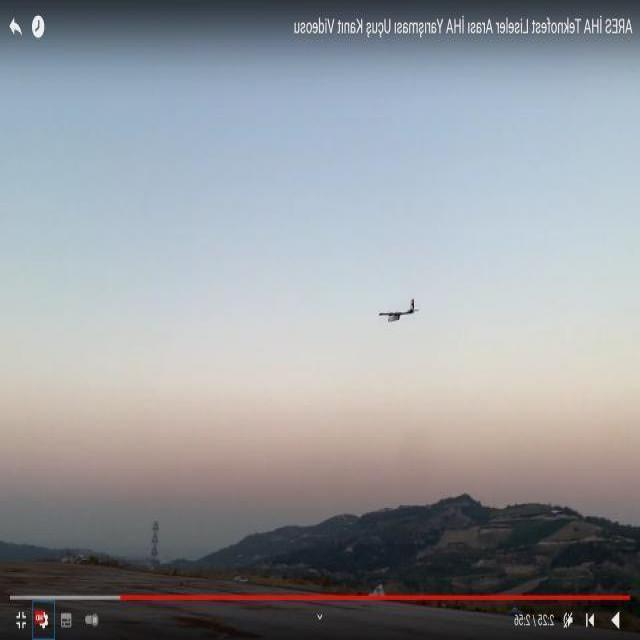iha: (399, 288, 403, 342)
